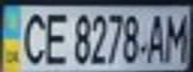2: (90, 9, 109, 65)
7: (106, 10, 127, 64)
8: (69, 9, 93, 65), (121, 10, 145, 64)
A: (142, 10, 172, 64)
C: (12, 8, 51, 66)
E: (39, 8, 72, 66)
M: (160, 10, 190, 63)
